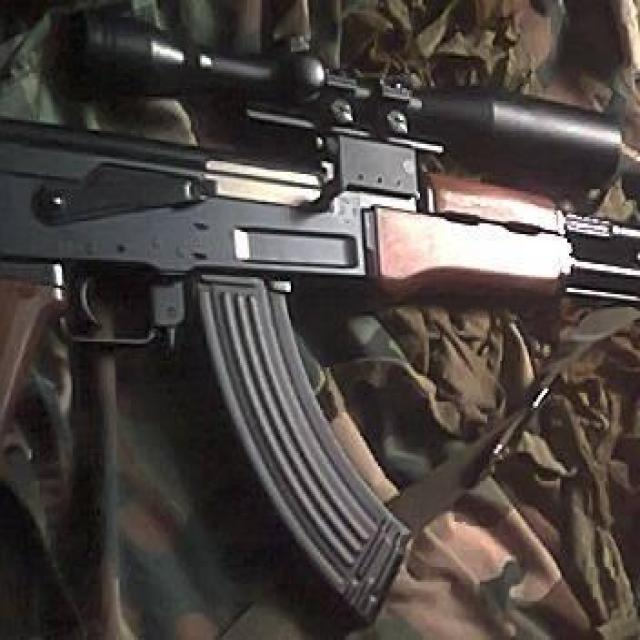Gun: (43, 100, 600, 604)
